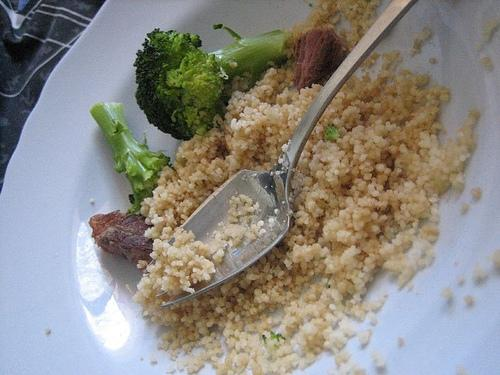broccoli: (133, 23, 292, 141), (89, 102, 176, 215), (324, 125, 341, 141)
